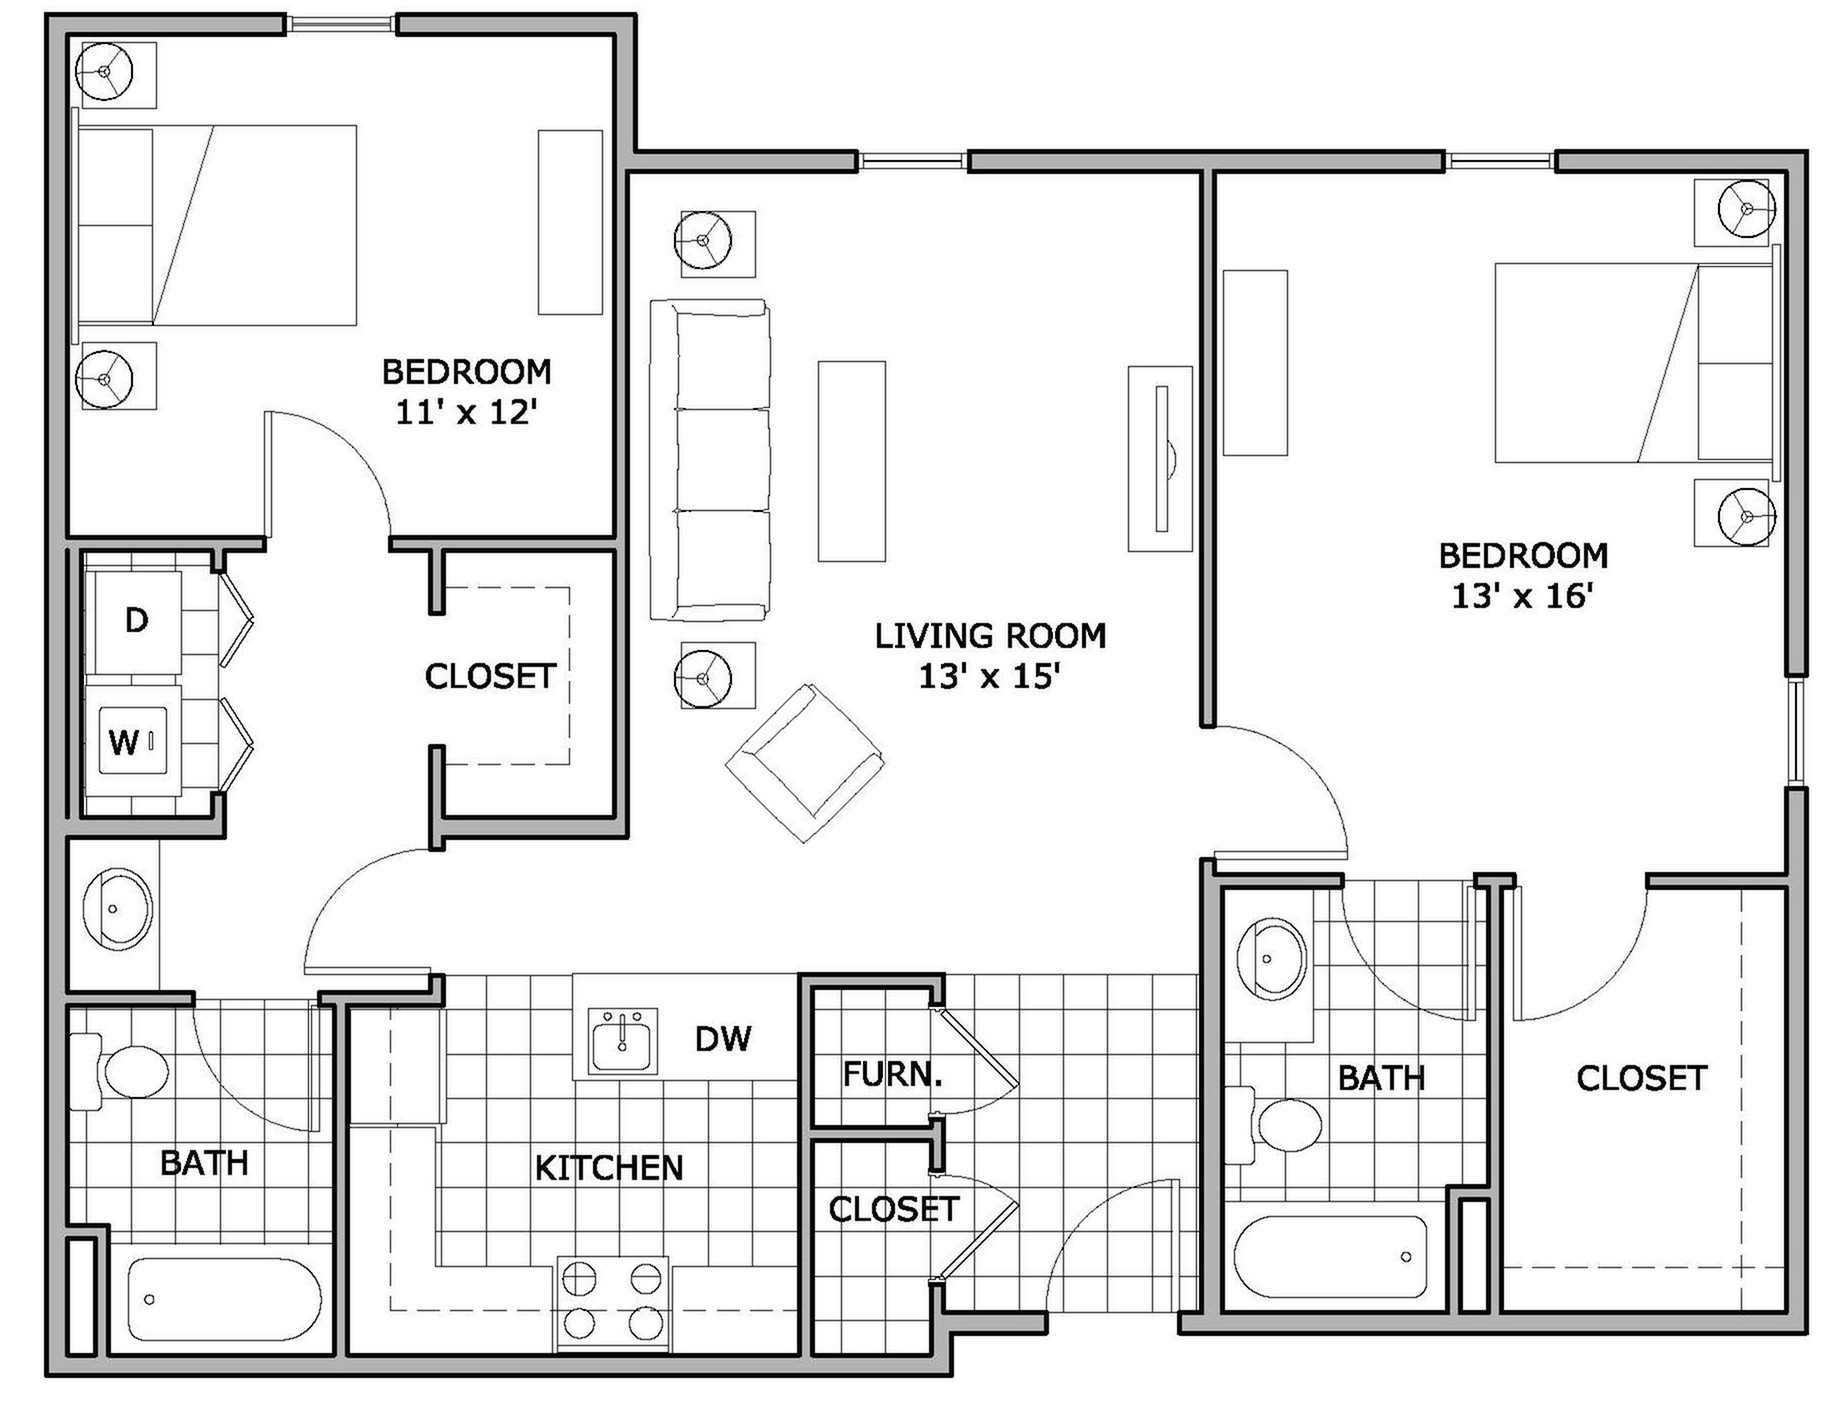door: (1504, 886, 1648, 1032), (1224, 709, 1354, 872), (1037, 1168, 1185, 1296), (1349, 892, 1480, 1035), (198, 1018, 329, 1153), (293, 844, 422, 978), (257, 403, 372, 522), (941, 1001, 1019, 1116), (948, 1165, 1025, 1271), (217, 583, 267, 671), (220, 698, 265, 785)
